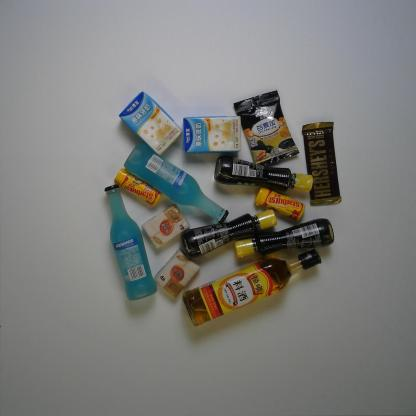Alcohol: (123, 140, 230, 226), (103, 181, 160, 303)
Candy: (113, 166, 163, 209), (253, 185, 307, 223)
Chocolate: (299, 120, 344, 208)
Instant Drink: (230, 87, 302, 168)
Milk: (118, 90, 185, 157), (178, 113, 244, 156)
Seasoner: (180, 247, 324, 329), (178, 208, 279, 260), (232, 216, 336, 260), (212, 154, 315, 196)
Tissue: (152, 246, 202, 300), (140, 201, 192, 251)
